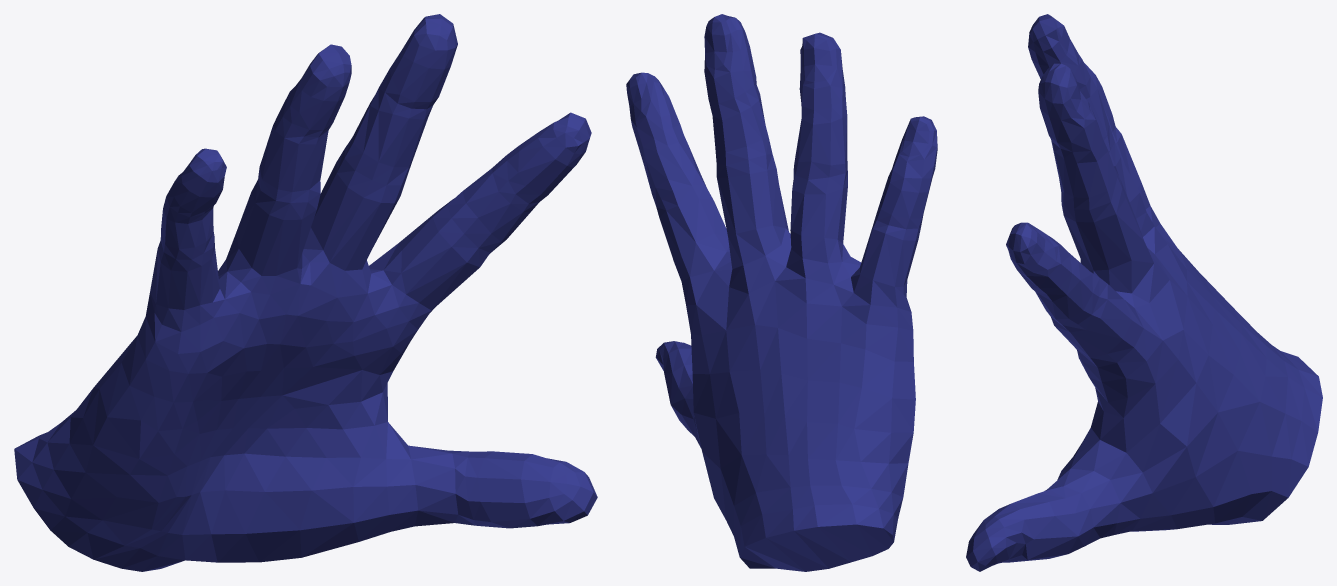
File: img.png_hand00.obj
The picture shows the model from 3 angles, left to right: view 1: azimuth 30°, elevation 25°; view 2: azimuth 150°, elevation 25°; view 3: azimuth 270°, elevation 25°; orthographic projection. The views are drawn at different scales.
Bounding box in the file's own units: 0.1436 × 0.1774 × 0.1085.
